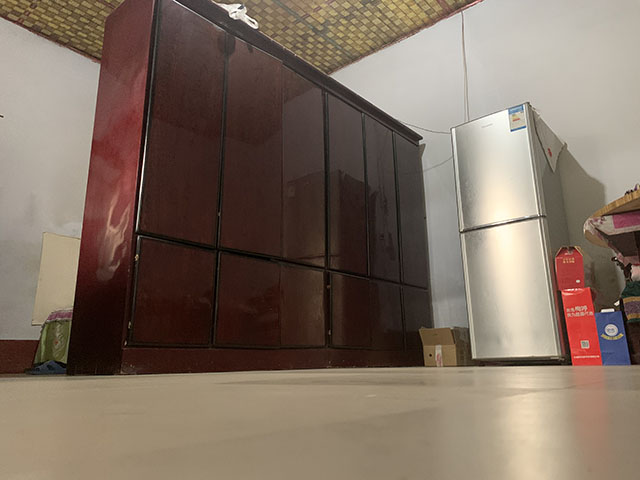cabinet: (64, 1, 435, 378)
slippers: (23, 359, 66, 375)
